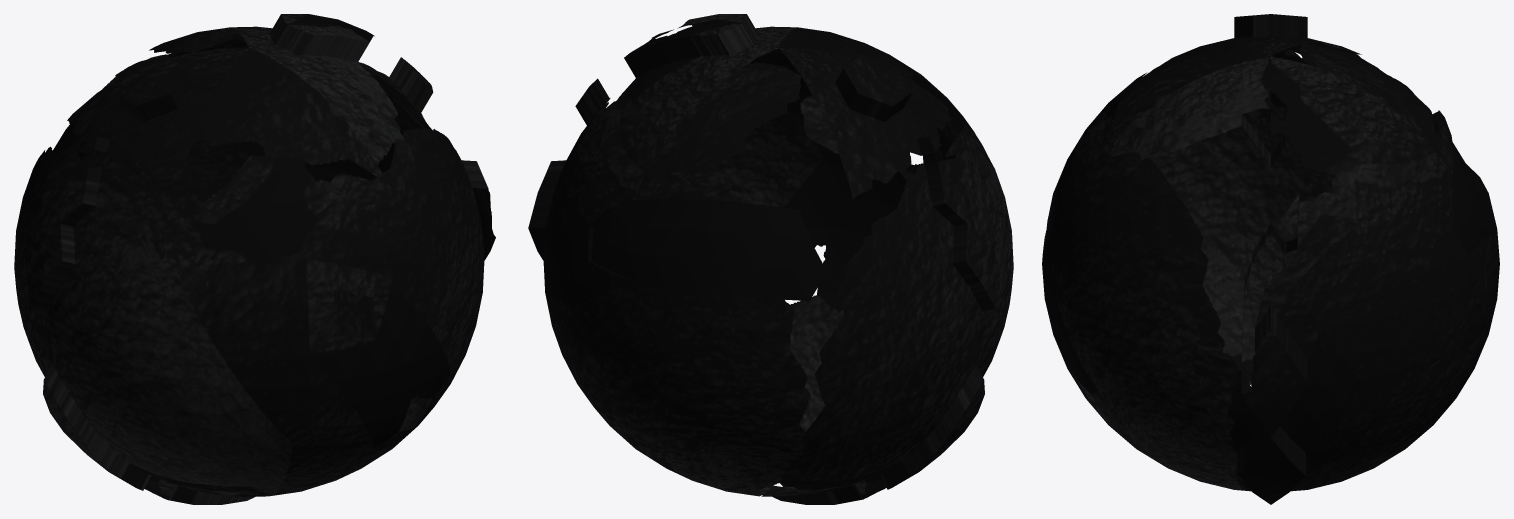
Rendered from abstractglass4.fbx.
3 renders of one model, left to right at view 1: azimuth 30°, elevation 25°; view 2: azimuth 150°, elevation 25°; view 3: azimuth 270°, elevation 25°, orthographic. The views are drawn at different scales.
Parts seen in each view (by area): view 1: Icosphere; view 2: Icosphere; view 3: Icosphere.
Boxes of the visible parts, left/top/right/bottom form: Icosphere: left=14, top=14, right=495, bottom=504; Icosphere: left=528, top=14, right=1013, bottom=504; Icosphere: left=1042, top=14, right=1499, bottom=504.
Bounding box in the file's own units: 1267 × 1225 × 1146.
2 materials, 2 textured.
